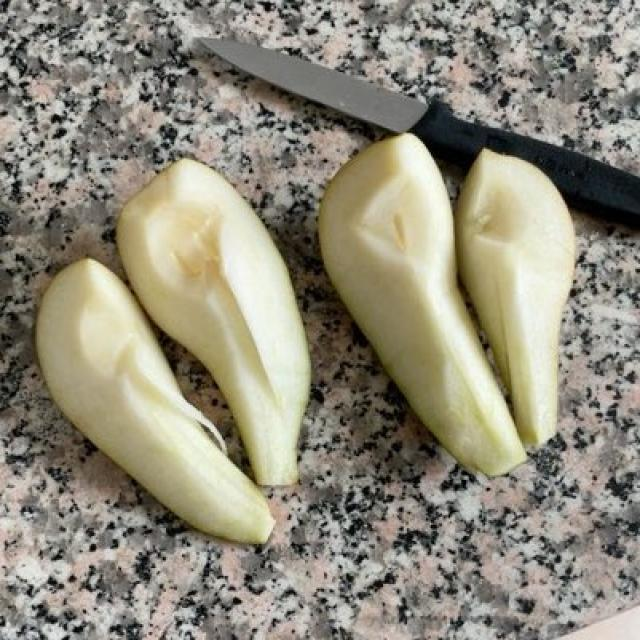pear: (31, 137, 578, 554)
